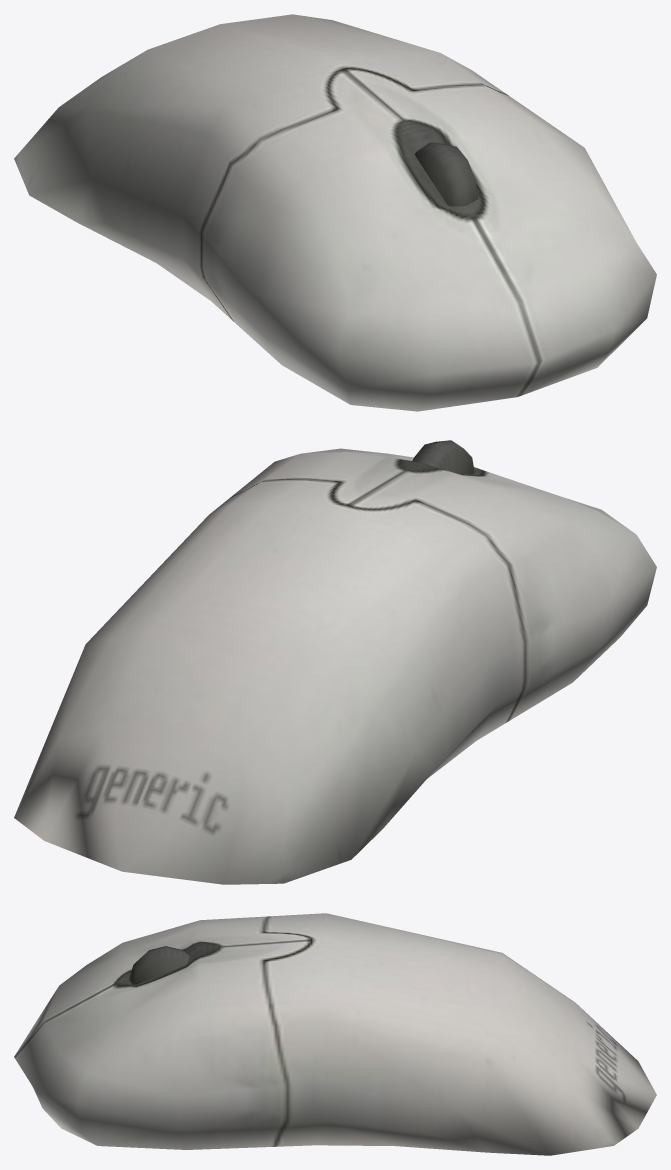
File: Mouse_lod1.fbx
The picture shows the model from 3 angles, top to bottom: view 1: azimuth 30°, elevation 25°; view 2: azimuth 150°, elevation 25°; view 3: azimuth 270°, elevation 25°; orthographic projection. The views are drawn at different scales.
Visible parts, largest first — view 1: Mouse, Mouse_Wheel; view 2: Mouse, Mouse_Wheel; view 3: Mouse, Mouse_Wheel.
Boxes of the visible parts, <box> form: Mouse: <box>14,14,656,411</box>; Mouse_Wheel: <box>415,142,478,206</box>; Mouse: <box>14,448,656,884</box>; Mouse_Wheel: <box>412,440,474,474</box>; Mouse: <box>14,913,656,1155</box>; Mouse_Wheel: <box>129,946,189,984</box>.
Bounding box in the file's own units: 1.14 × 0.6257 × 2.34.
